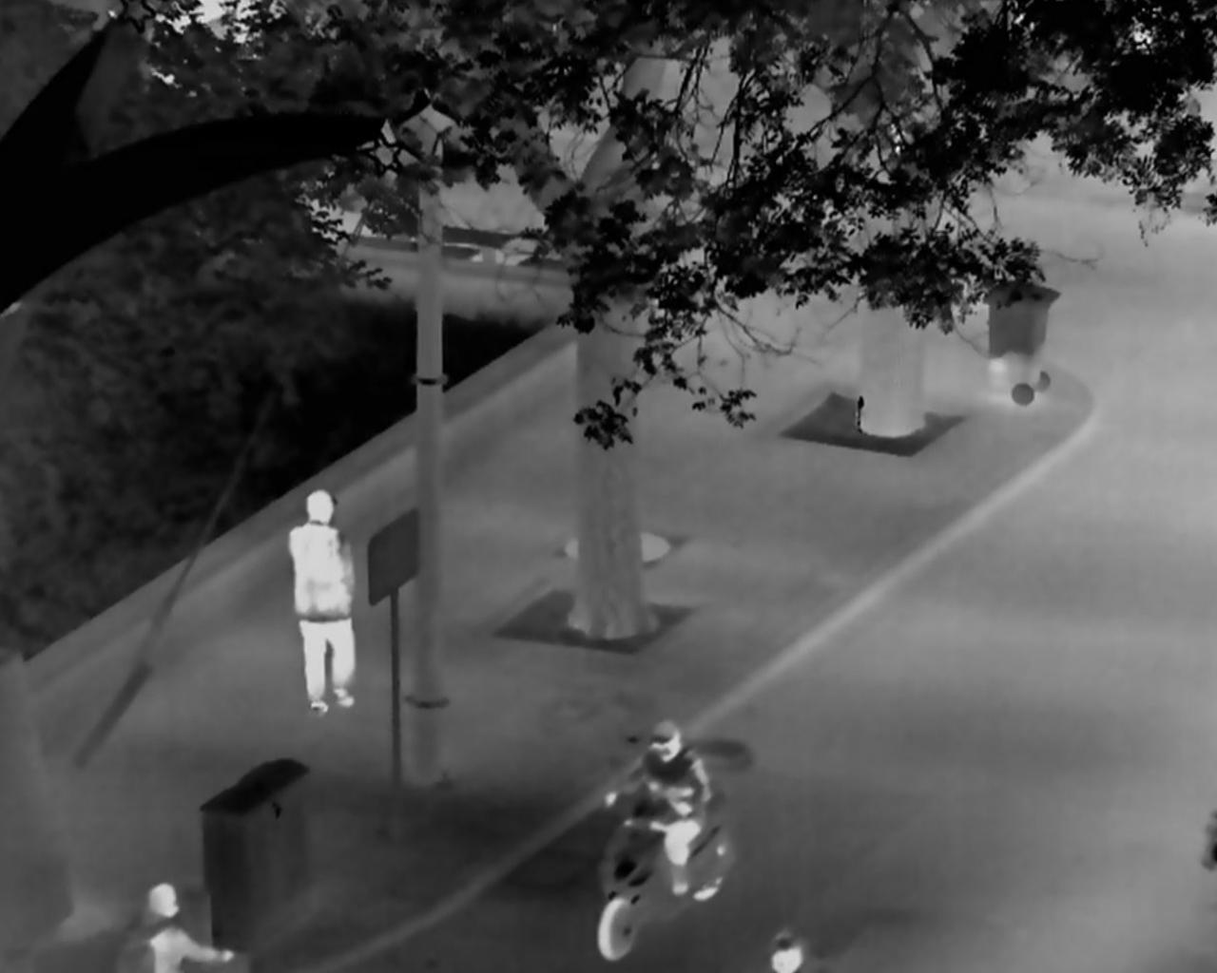person: (603, 717, 712, 895), (286, 489, 358, 716), (114, 881, 236, 973), (766, 927, 822, 973)
